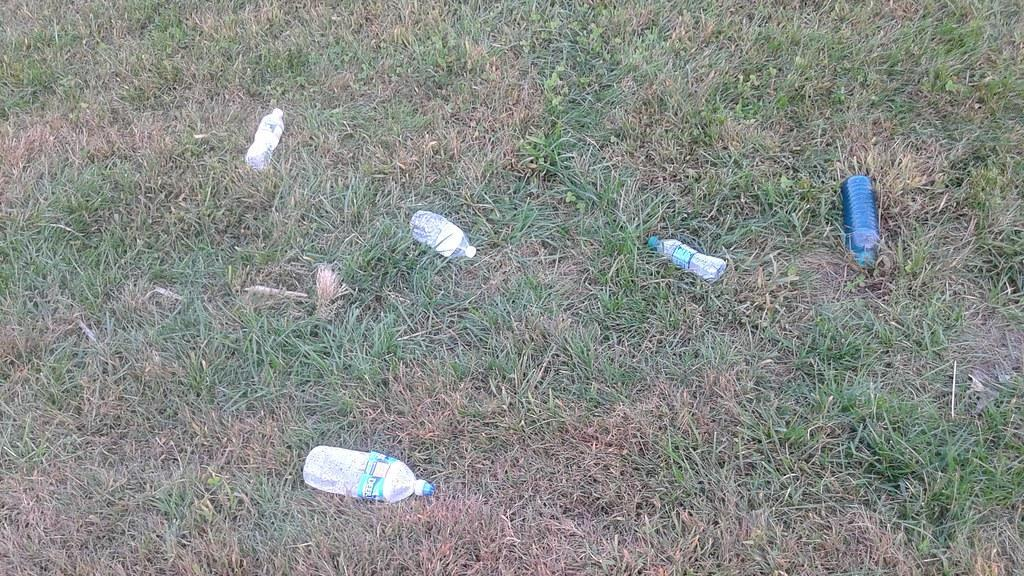bottle: (289, 422, 454, 520), (220, 63, 314, 228), (818, 160, 900, 313), (392, 180, 490, 273), (638, 234, 738, 288)
